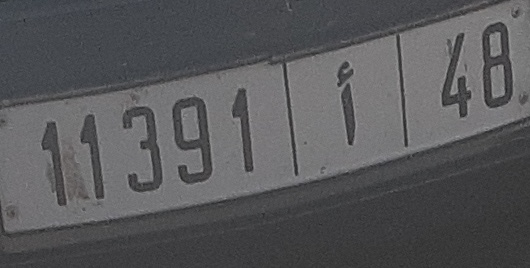1: (37, 118, 69, 209), (77, 113, 107, 203), (227, 86, 258, 173)
3: (120, 105, 166, 193)
4: (437, 30, 474, 121)
8: (480, 20, 516, 110)
9: (170, 95, 216, 187)
a: (333, 58, 361, 148)
